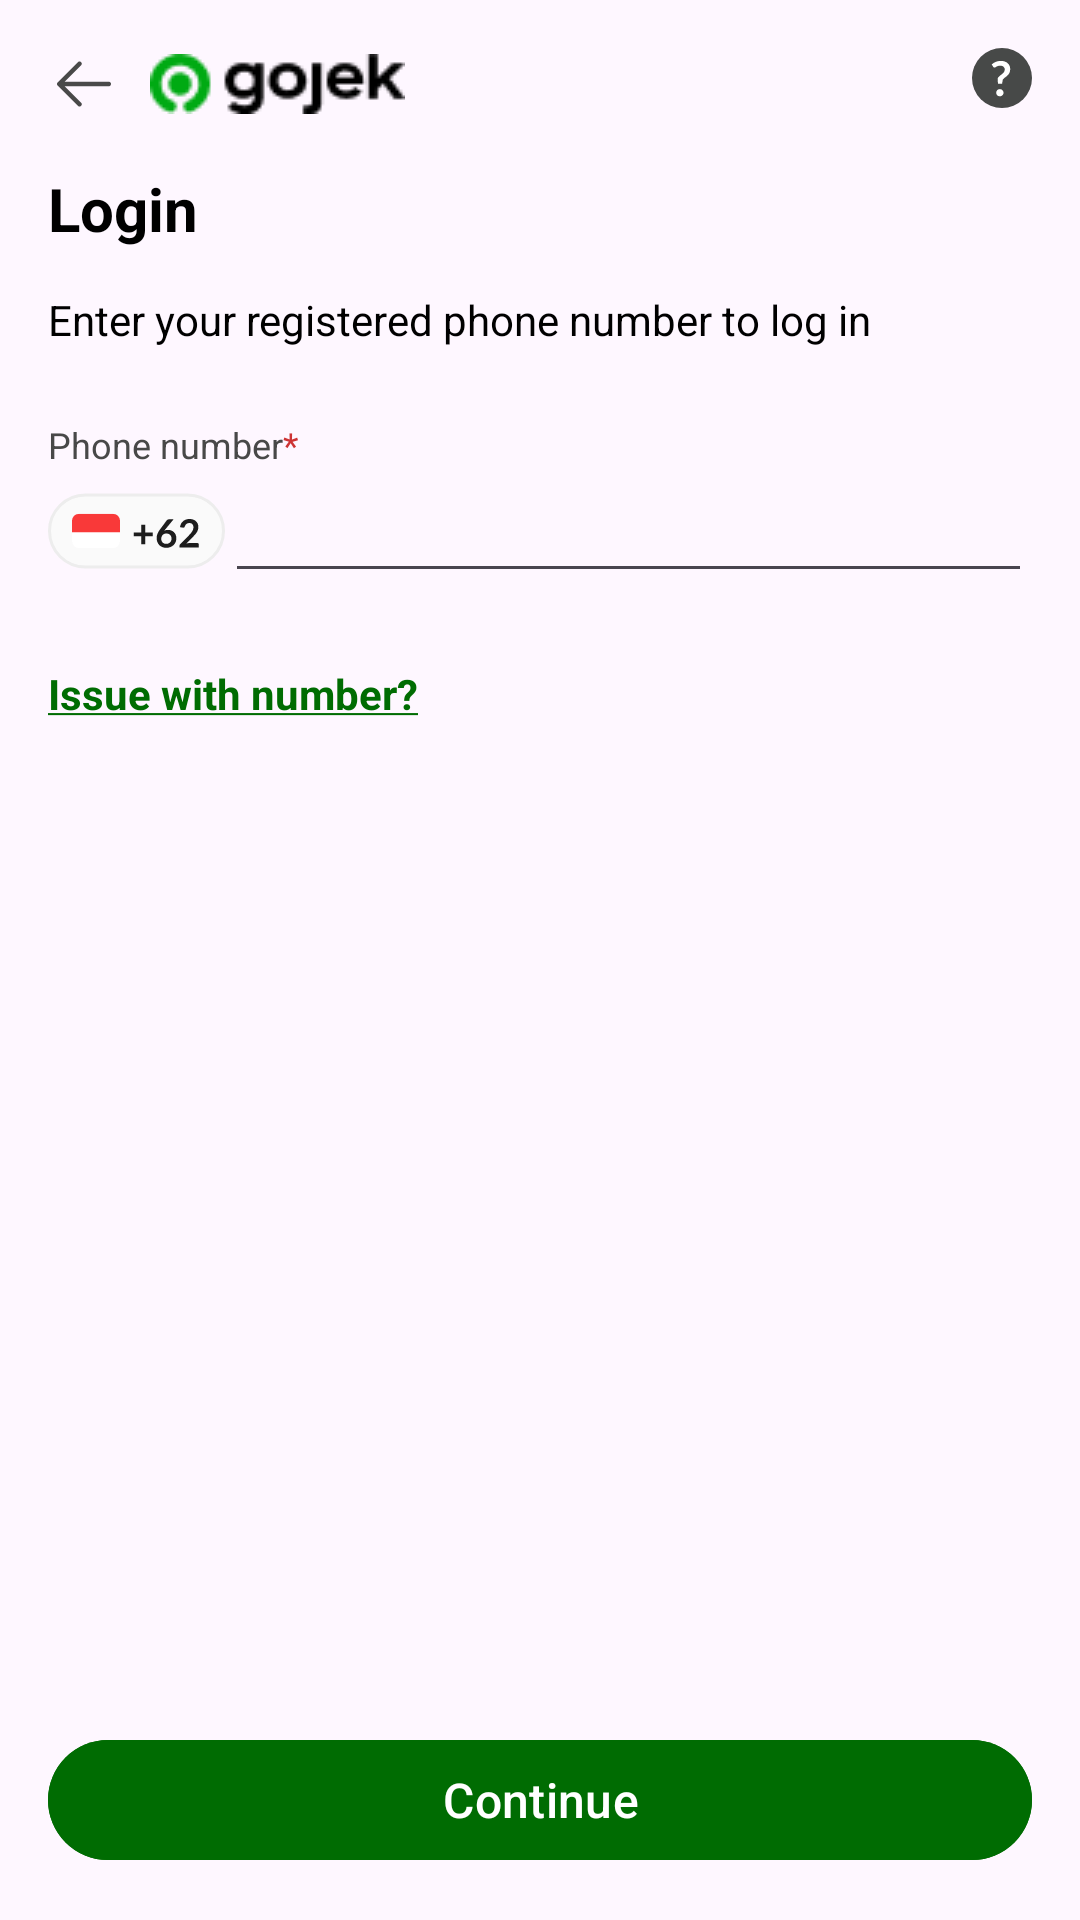

Locate icon controls on the screen. Image size 1080*1920, boxes as bbox=(x1, y1, x2, y2).
arrow left: bbox=(57, 61, 111, 107)
flags with code: bbox=(72, 514, 199, 548)
help: bbox=(972, 48, 1032, 108)
